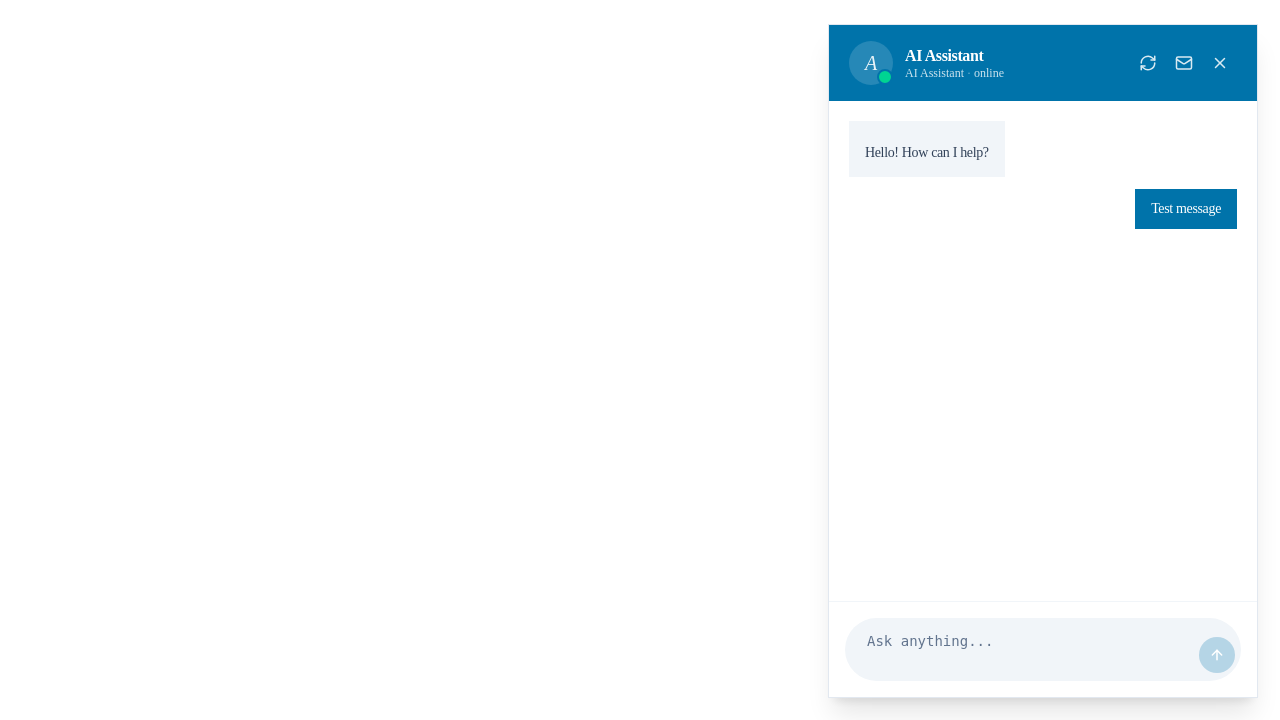
it: ChatWidget new conversation › cancels the new conversation dialog without resetting
Click the button named "New conversation": (1148, 63) [1131,46,1165,80]
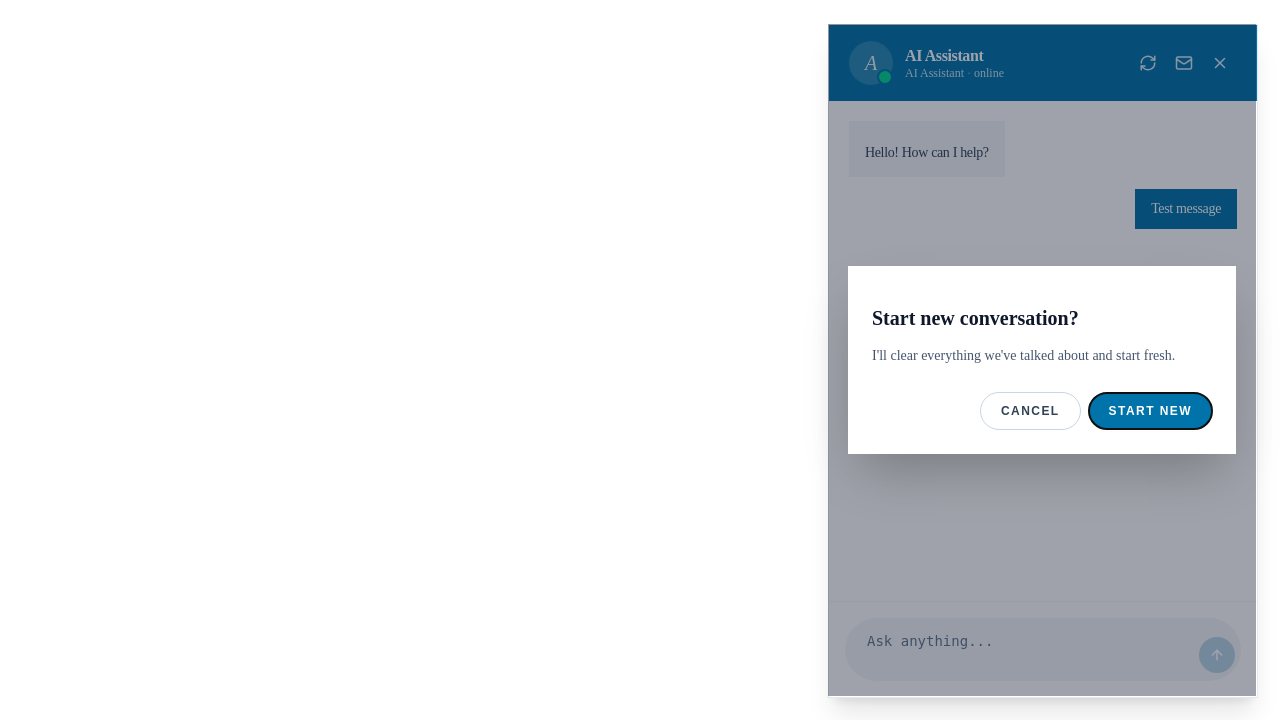
Click the button "CANCEL": (1030, 411) [980,392,1081,430]
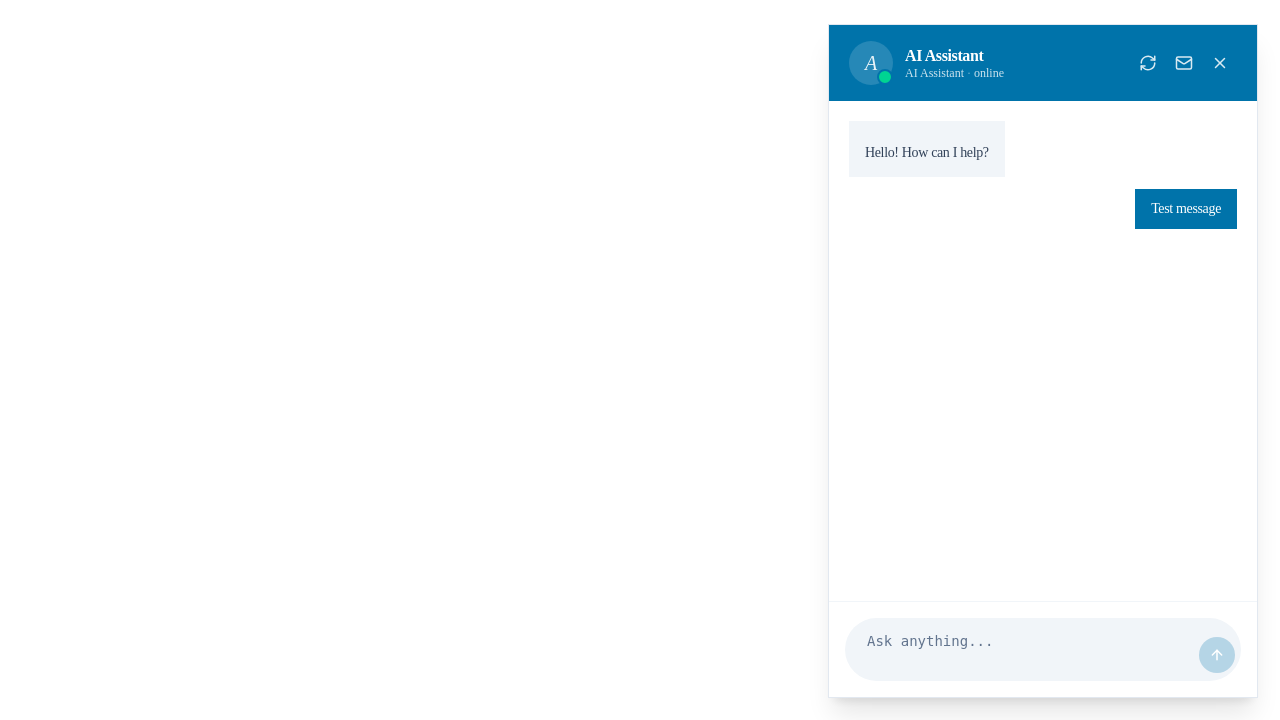
Now the heading "Start new conversation?" is gone
